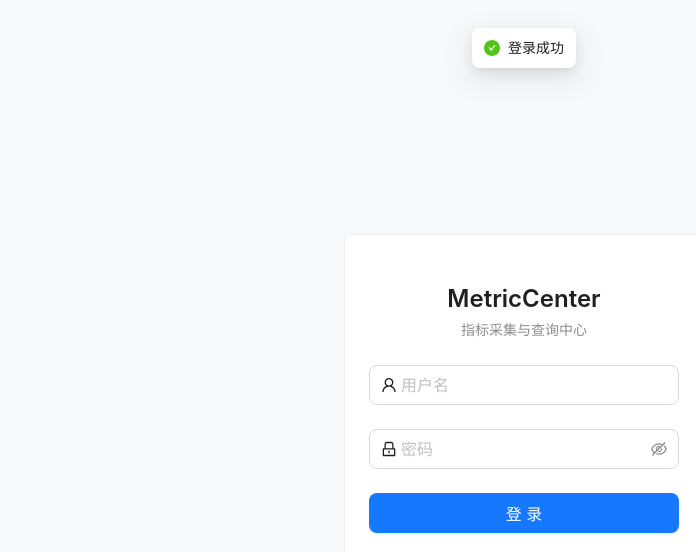
it: LoginPage › redirects to home by default when no redirect provided
Type "admin" into the field with placeholder "用户名". click: (526, 385)
box: [401,373,651,397]
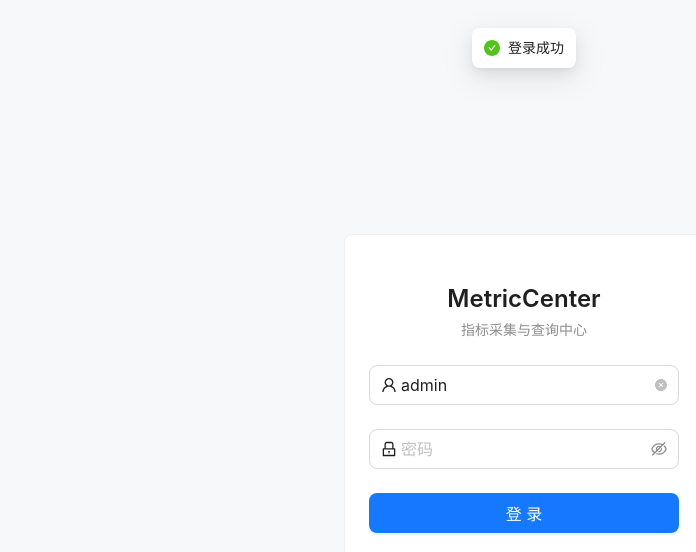
Type "admin123" into the password field with placeholder "密码". click: (524, 449)
box: [401,437,647,461]
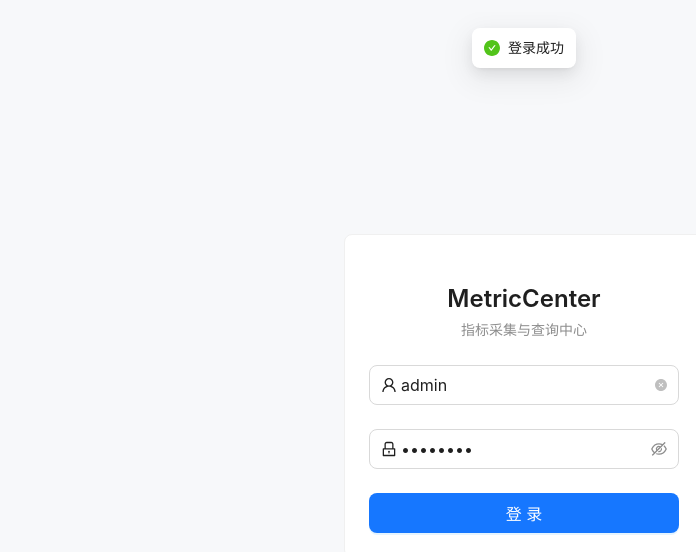
Click the button "登 录". click: (524, 513)
box: [369,493,679,533]
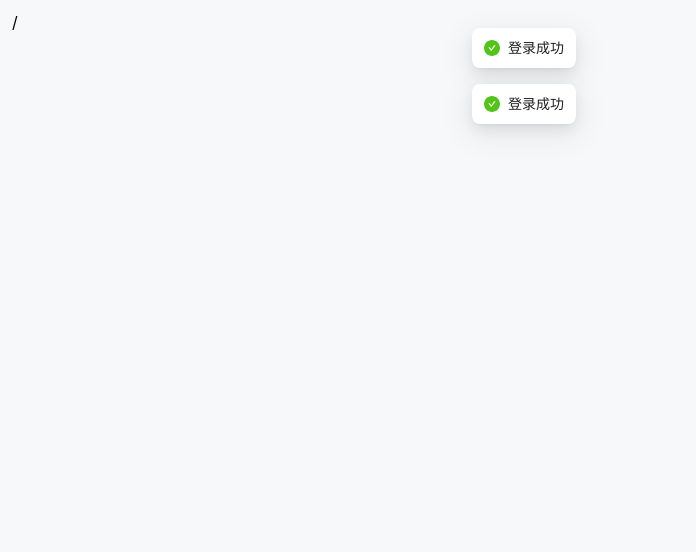
Expected: the text with test id "location" reads "/", [12,12,18,32]
